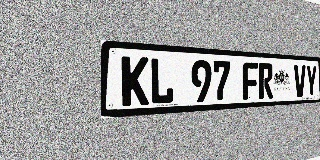7: (212, 61, 231, 102)
9: (191, 60, 212, 103)
F: (243, 62, 258, 100)
K: (122, 56, 149, 106)
L: (150, 57, 174, 105)
R: (259, 63, 273, 99)
V: (294, 65, 306, 97)
Y: (306, 65, 317, 97)
